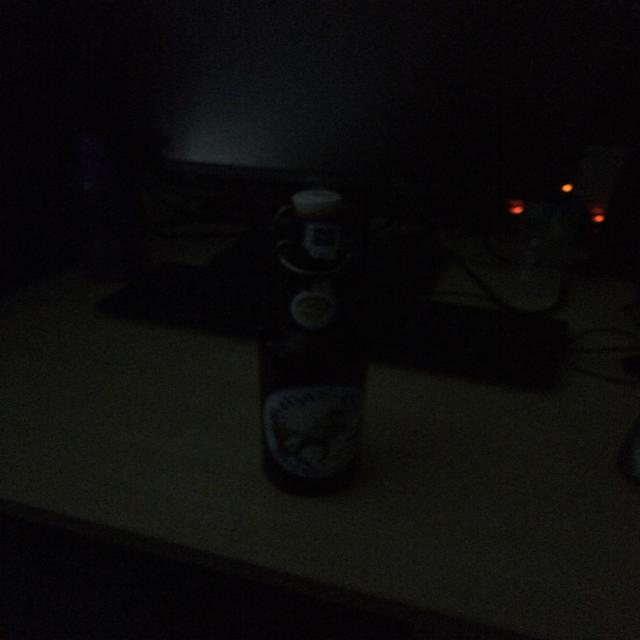Bottle: (223, 177, 409, 494)
Table: (0, 155, 640, 640)
